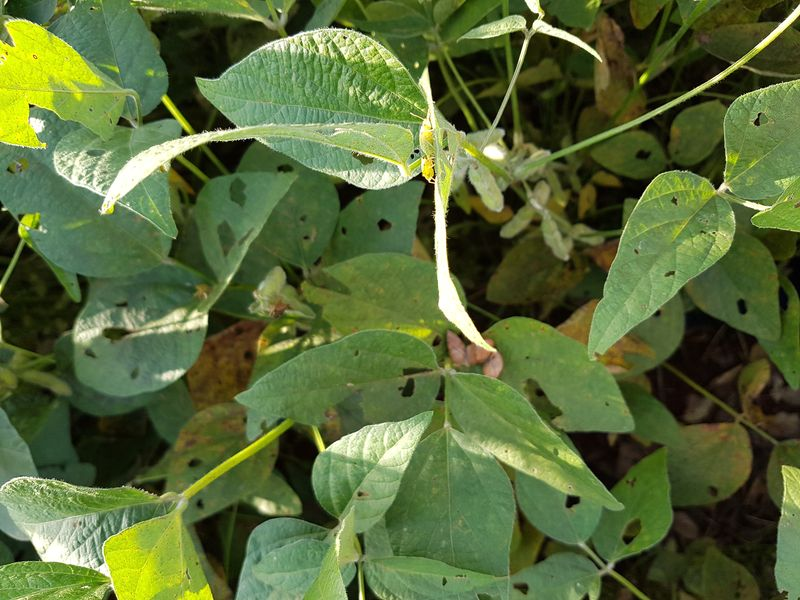Euschistus_heros_adulto: (264, 294, 295, 326)
Euschistus_heros_ninfa: (412, 115, 441, 156), (414, 157, 440, 187)
Gastropoda: (438, 327, 465, 370), (480, 353, 506, 383), (466, 335, 493, 363)
